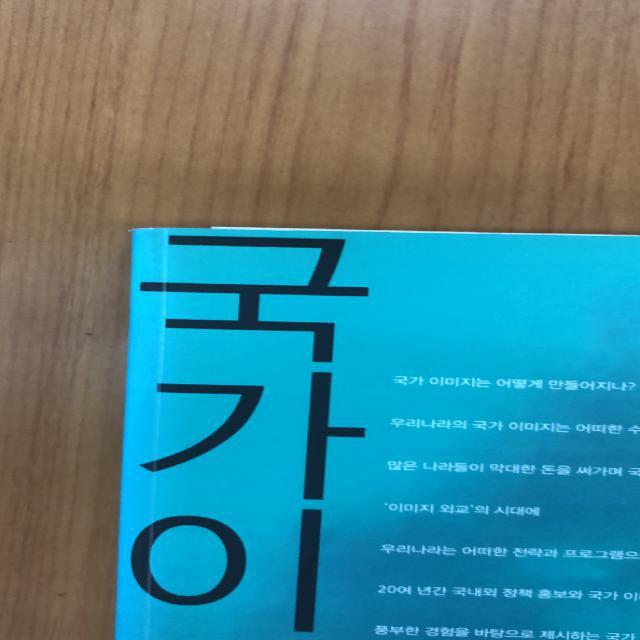Wornout: (122, 223, 174, 239)
